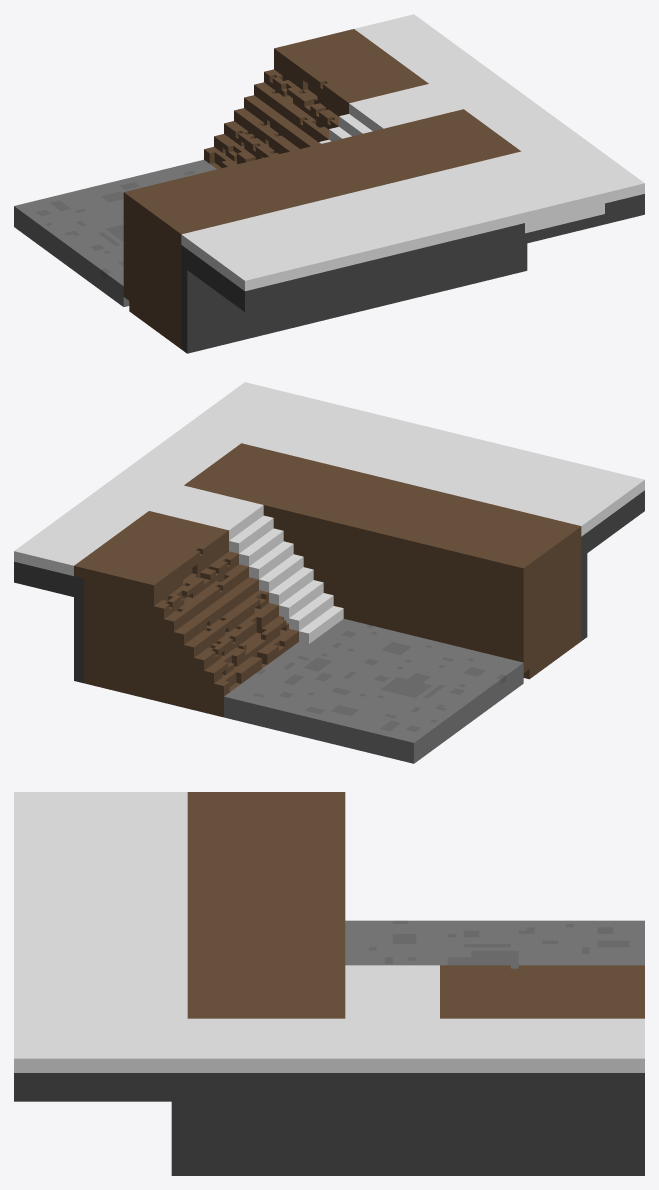
File: pathway castle sx1.obj
The picture shows the model from 3 angles, top to bottom: view 1: azimuth 30°, elevation 25°; view 2: azimuth 150°, elevation 25°; view 3: azimuth 270°, elevation 25°; orthographic projection. The views are drawn at different scales.
Bounding box in the file's own units: 8 × 2.2 × 8.
1 material, 1 textured.
